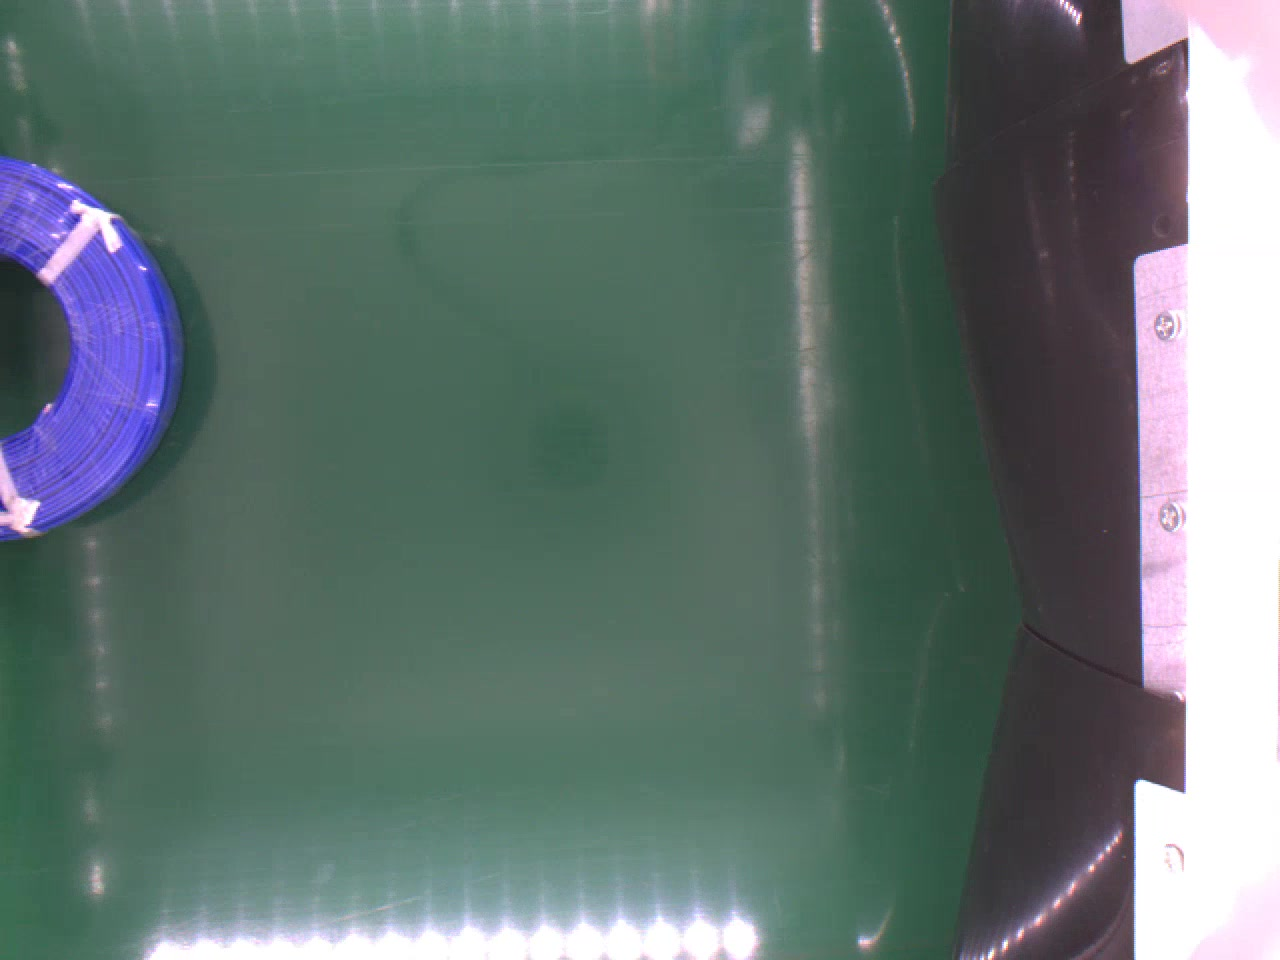blue: (0, 155, 180, 537)
